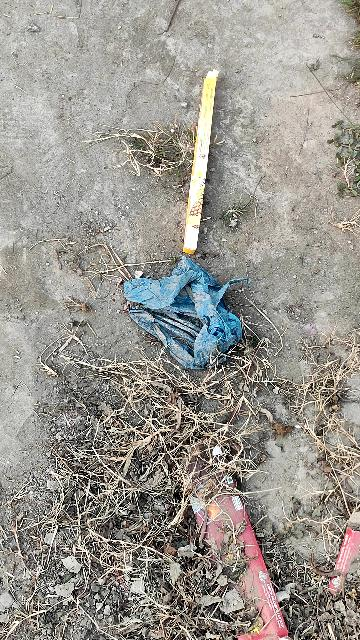packet: (111, 261, 255, 366)
